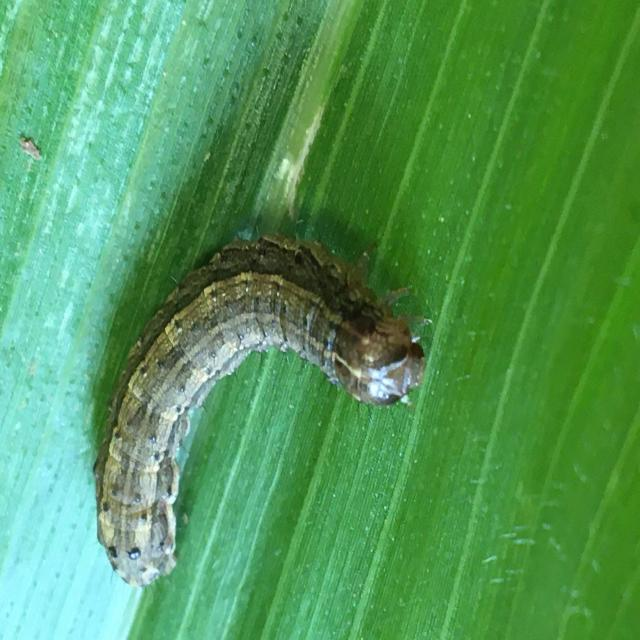yellow-stem-borer-larva: (76, 201, 444, 622)
